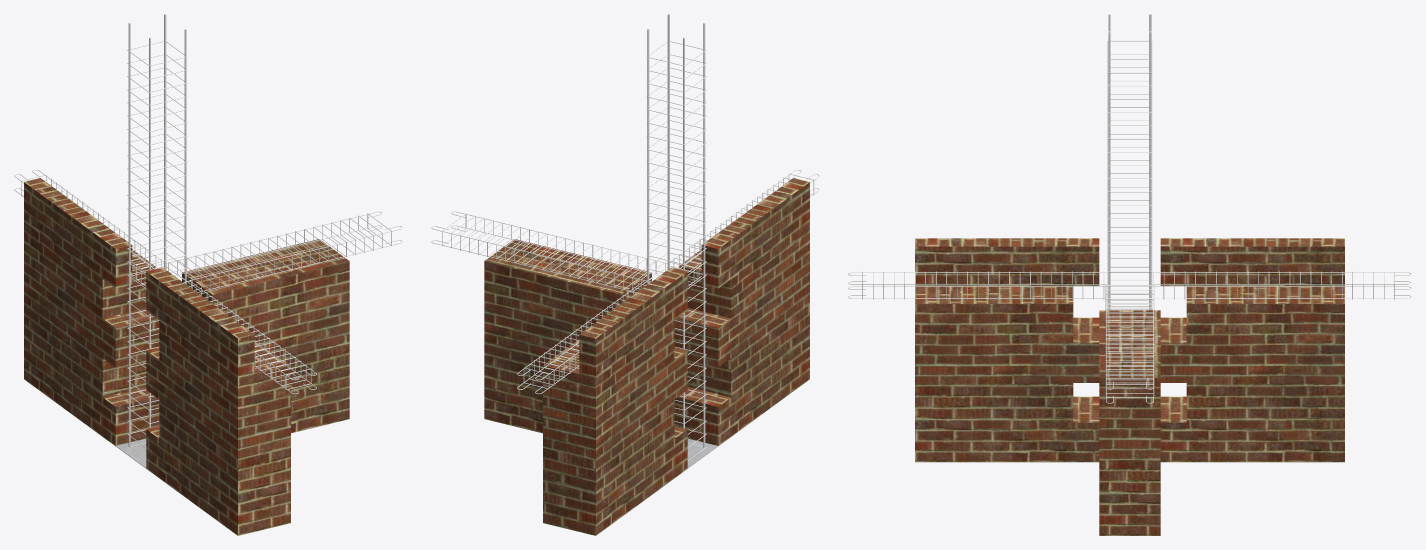
File: construction-column.glb
The picture shows the model from 3 angles, left to right: view 1: azimuth 30°, elevation 25°; view 2: azimuth 150°, elevation 25°; view 3: azimuth 270°, elevation 25°; orthographic projection.
Parts seen in each view (by area): view 1: 墙体, 钢筋, 箍筋, 混凝土柱子; view 2: 墙体, 钢筋, 箍筋, 混凝土柱子; view 3: 墙体, 箍筋, 钢筋.
Boxes of the visible parts, box(x1,y1,x2,y2) form: 墙体: box(24, 178, 349, 535); 钢筋: box(127, 14, 187, 460); 箍筋: box(14, 169, 402, 394); 混凝土柱子: box(115, 438, 146, 468); 墙体: box(484, 178, 809, 535); 钢筋: box(646, 14, 706, 460); 箍筋: box(431, 169, 819, 394); 混凝土柱子: box(687, 438, 718, 468); 墙体: box(915, 238, 1344, 535); 箍筋: box(848, 271, 1411, 403); 钢筋: box(1107, 14, 1152, 310).
Size of what is drawn, in the model's own units: 1.73 by 2.69 by 3.22.
Materials: 4 (3 with a texture image).
